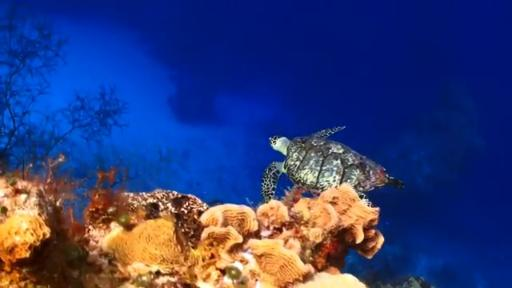Fish: (262, 127, 403, 202)
